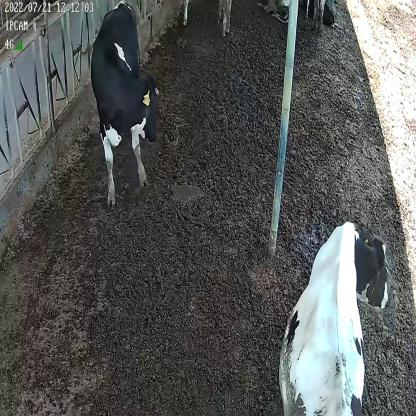cow: (278, 222, 390, 416), (91, 0, 160, 207)
